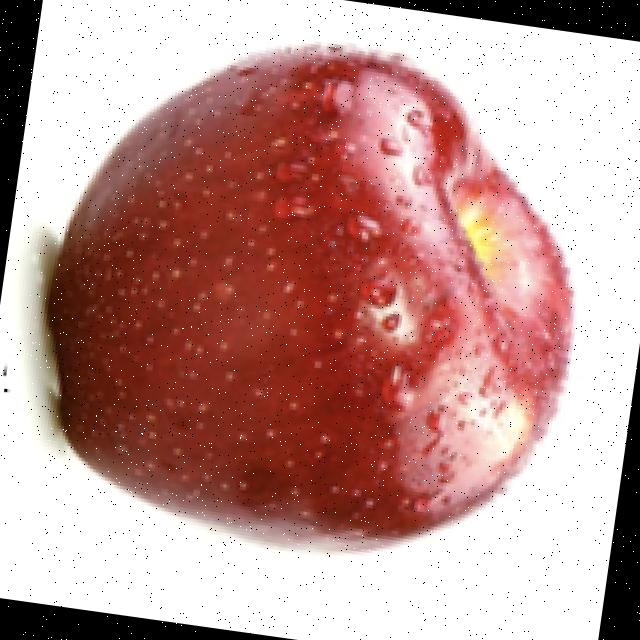apple: (16, 38, 580, 558)
